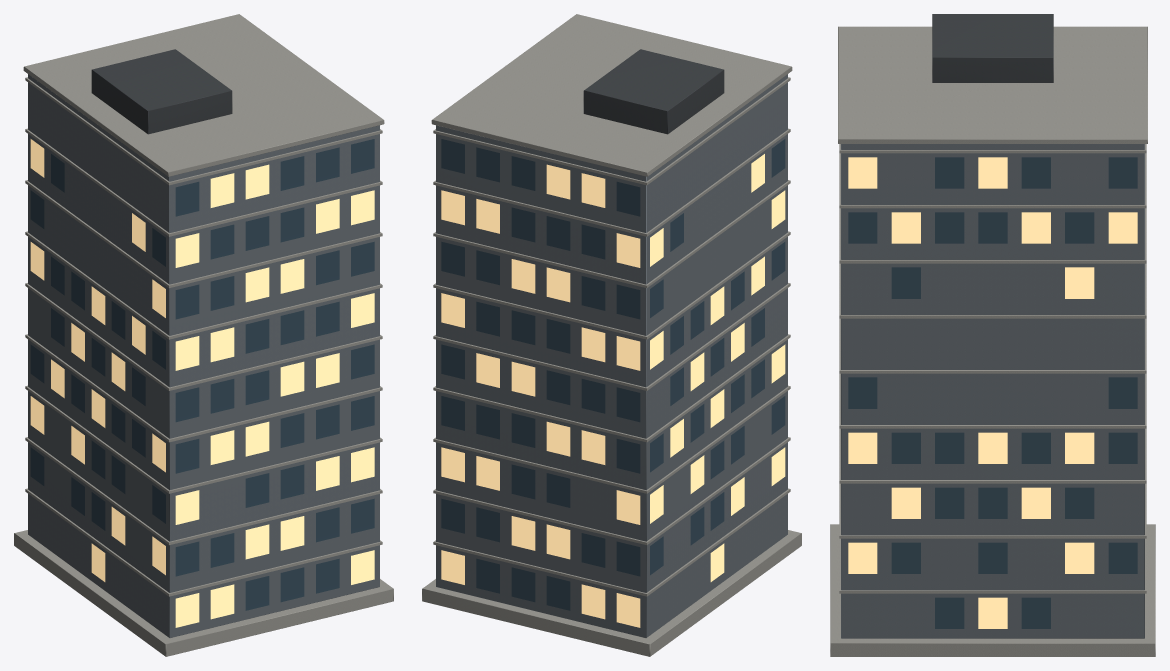
File: marina-hotel_high.glb
3 views of the same model, side by side, from view 1: azimuth 30°, elevation 25°; view 2: azimuth 150°, elevation 25°; view 3: azimuth 270°, elevation 25° (orthographic). The views are drawn at different scales.
Visible parts, largest first — view 1: facade-mineral, concrete, glazing, window-emissive-mask, dark-steel; view 2: facade-mineral, concrete, glazing, window-emissive-mask, dark-steel; view 3: facade-mineral, concrete, glazing, window-emissive-mask, dark-steel.
Boxes of the visible parts, bbox=[...] form: facade-mineral: bbox=[28, 74, 379, 637]; concrete: bbox=[14, 14, 393, 656]; glazing: bbox=[30, 139, 374, 610]; window-emissive-mask: bbox=[30, 139, 374, 627]; dark-steel: bbox=[91, 49, 232, 134]; facade-mineral: bbox=[436, 74, 787, 637]; concrete: bbox=[422, 14, 801, 656]; glazing: bbox=[441, 139, 785, 610]; window-emissive-mask: bbox=[441, 154, 785, 627]; dark-steel: bbox=[583, 49, 724, 134]; facade-mineral: bbox=[841, 144, 1144, 638]; concrete: bbox=[830, 26, 1155, 656]; glazing: bbox=[848, 157, 1137, 628]; window-emissive-mask: bbox=[848, 157, 1137, 628]; dark-steel: bbox=[932, 14, 1053, 82].
Bounding box in the file's own units: 13 × 27.45 × 15.
Materials: 5 (3 with a texture image).
